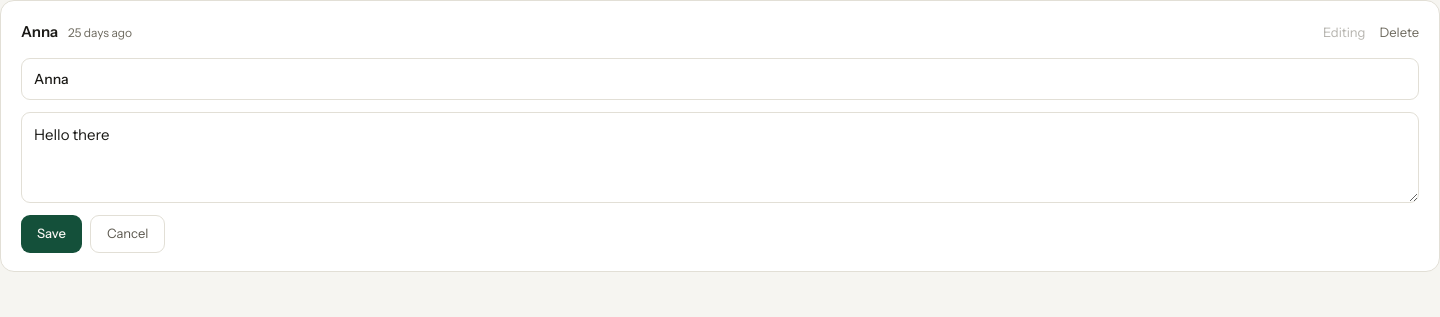
Scenario: editing in place › closes Save while a field is empty, and says why
Clear the text box named "Edit message" at (720, 157), box left=21, top=112, right=1419, bottom=203
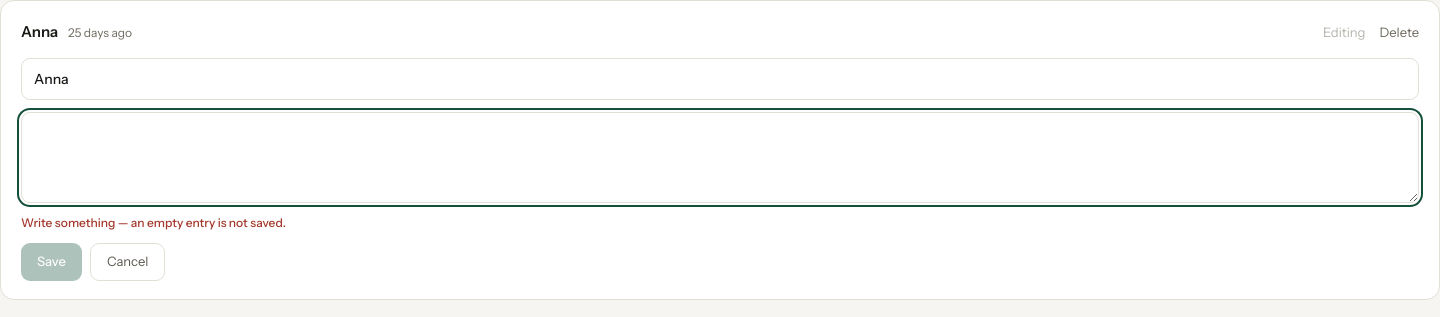
expect the button "Save" is disabled: met, box left=21, top=243, right=82, bottom=281
expect the message shows "Write something": met, box left=21, top=215, right=286, bottom=230
